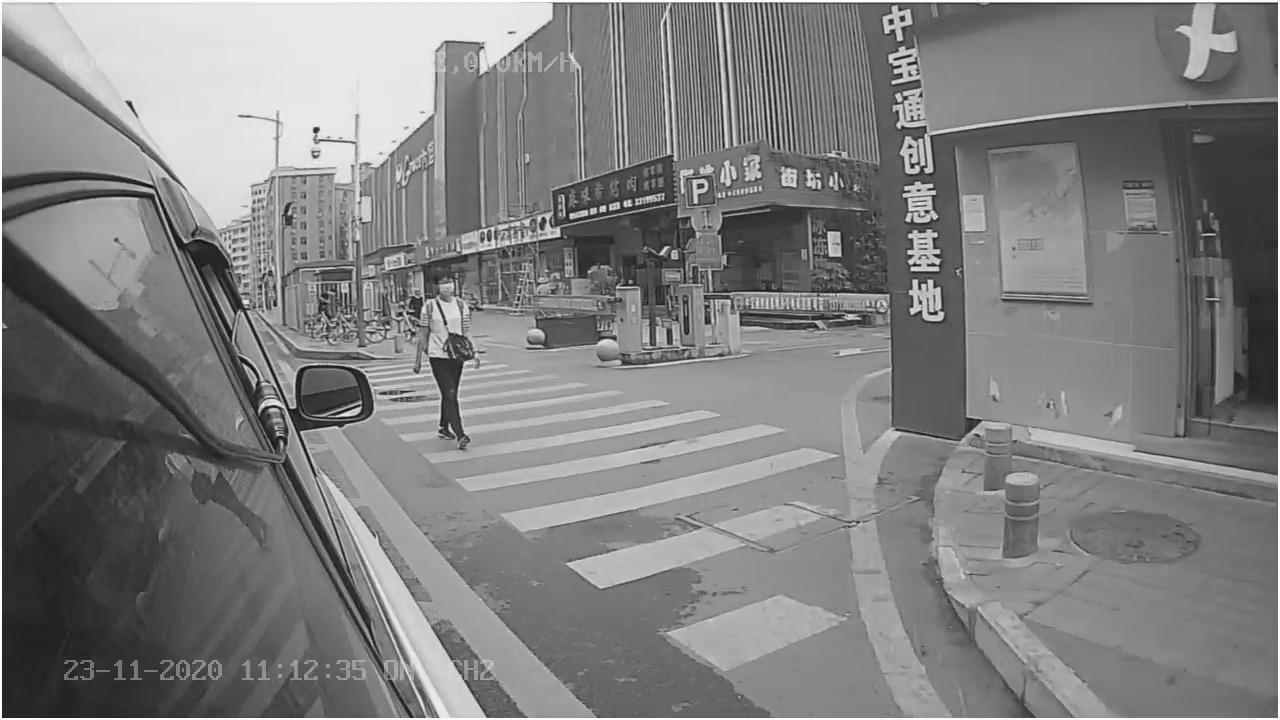person: (406, 274, 481, 453)
